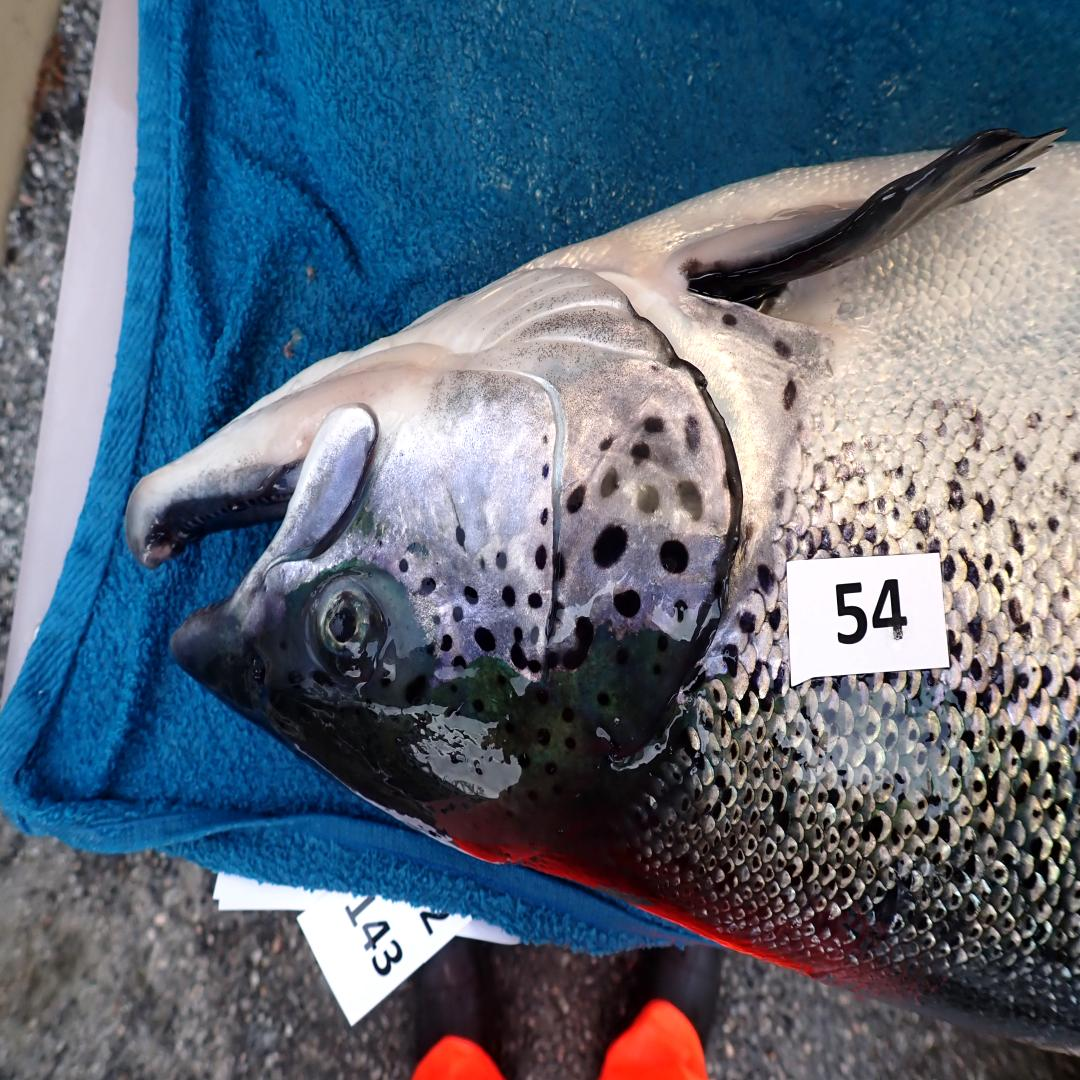roi: (371, 262, 743, 679)
